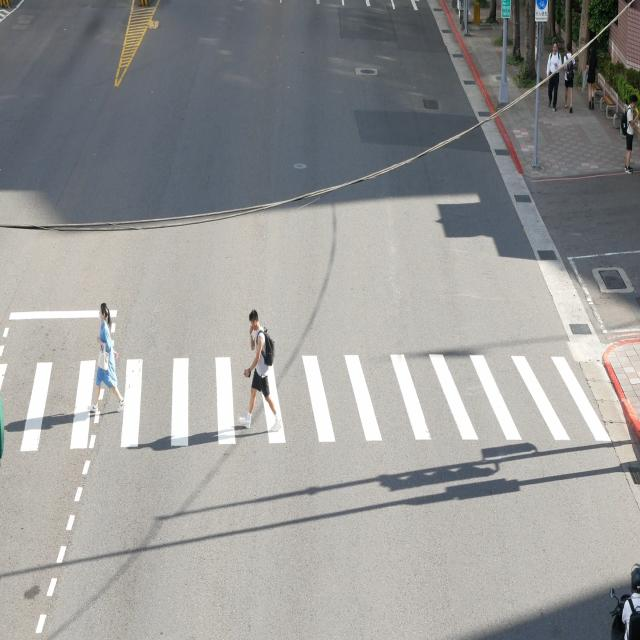pedestrian: (240, 309, 282, 428), (96, 303, 117, 393)
